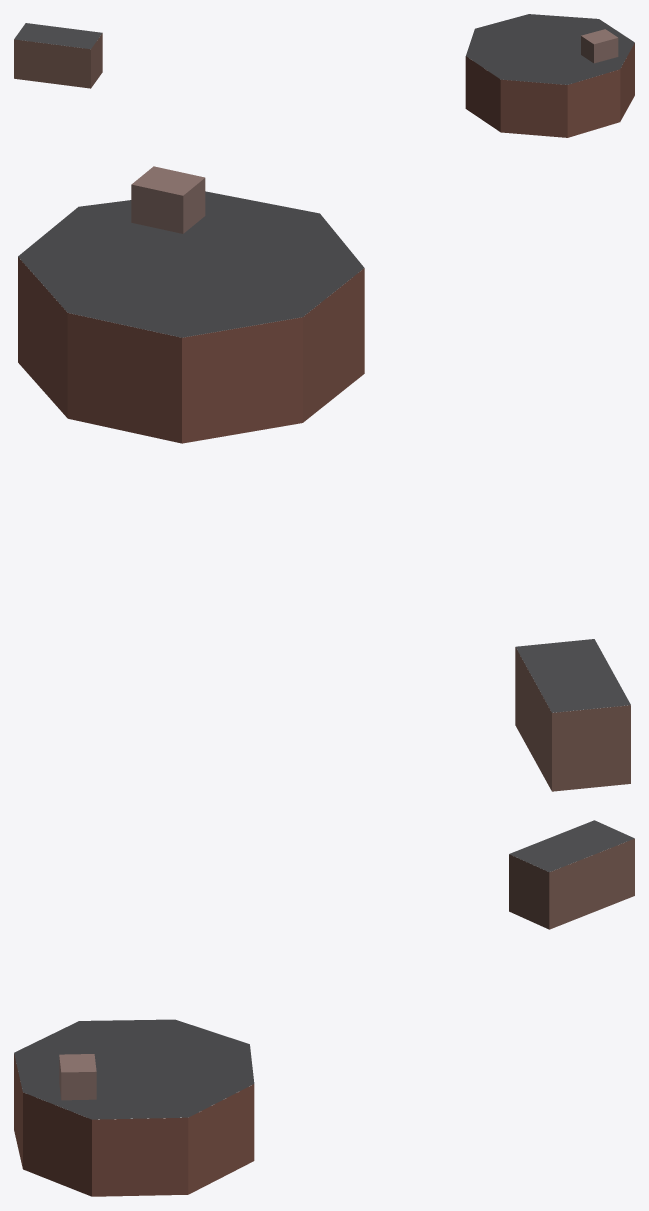
The model's file is 3_5.bld.glb.
The picture shows the model from 3 angles, top to bottom: view 1: azimuth 30°, elevation 25°; view 2: azimuth 150°, elevation 25°; view 3: azimuth 270°, elevation 25°; orthographic projection. The views are drawn at different scales.
Visible parts, largest first — view 1: 3_5; view 2: 3_5; view 3: 3_5.
Part boxes in pixels (x1,y1,x2,y2): 3_5: (14, 14, 634, 137); 3_5: (18, 166, 630, 791); 3_5: (14, 820, 634, 1196).
Bounding box in the file's own units: 72.74 × 11.16 × 59.81.
